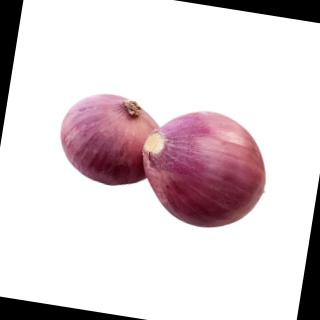Bawang Merah: (132, 100, 280, 239)
